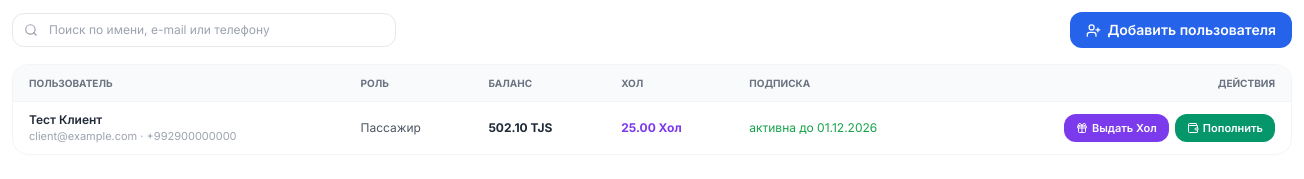
it: UsersManager › фильтрует список по поисковой строке
expect the text "Тест Клиент" is shown: met, box left=29, top=112, right=102, bottom=127
Type "несуществующий" into the field with placeholder "Поиск по имени, e-mail или телефону" at (204,30), box left=12, top=13, right=396, bottom=47
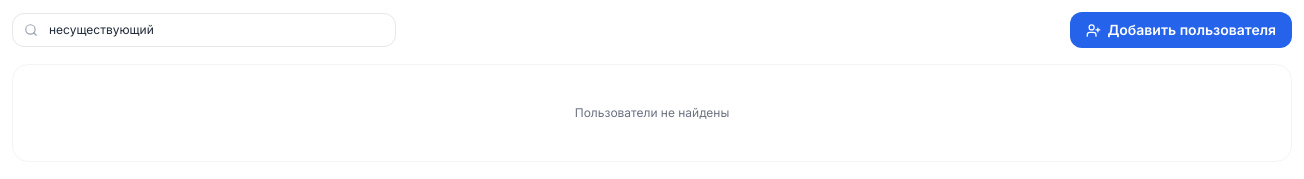
expect the text "Пользователи не найдены" is shown: met, box left=575, top=105, right=729, bottom=120
